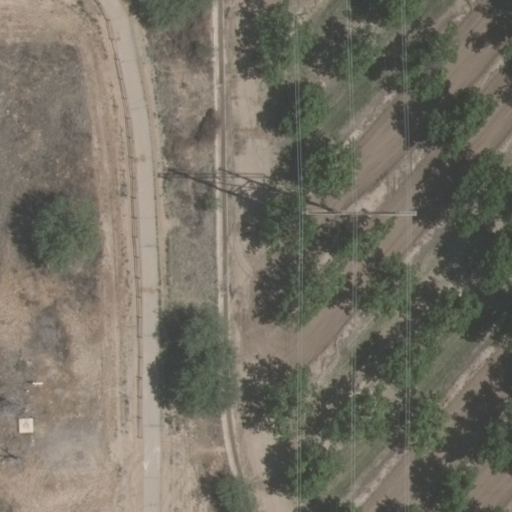TT: (304, 207, 422, 216)
